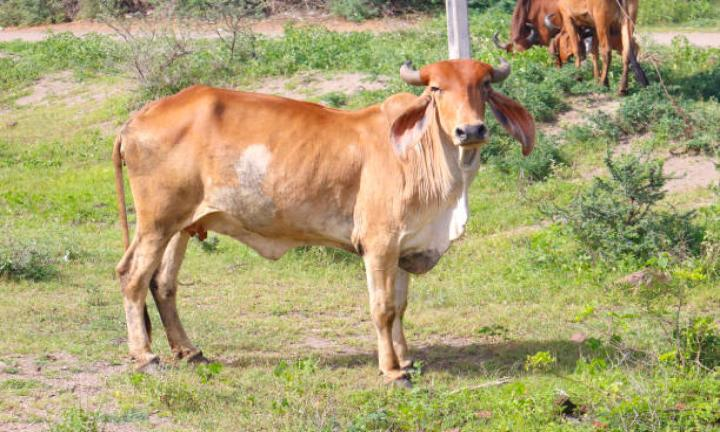Brahman: (113, 59, 534, 380)
